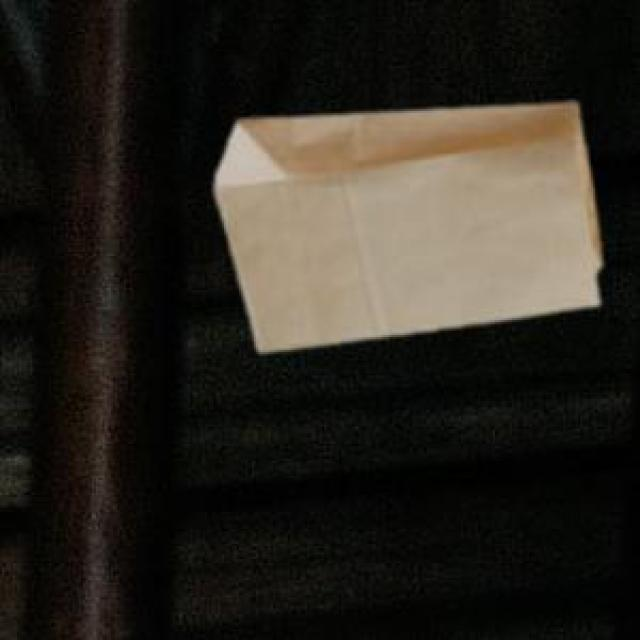paper: (211, 98, 597, 348)
